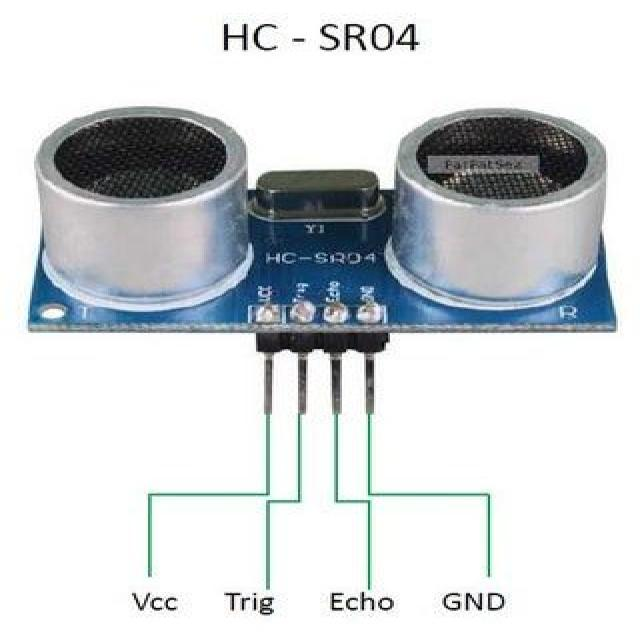Ultrasonic Sensor: (14, 100, 625, 352)
